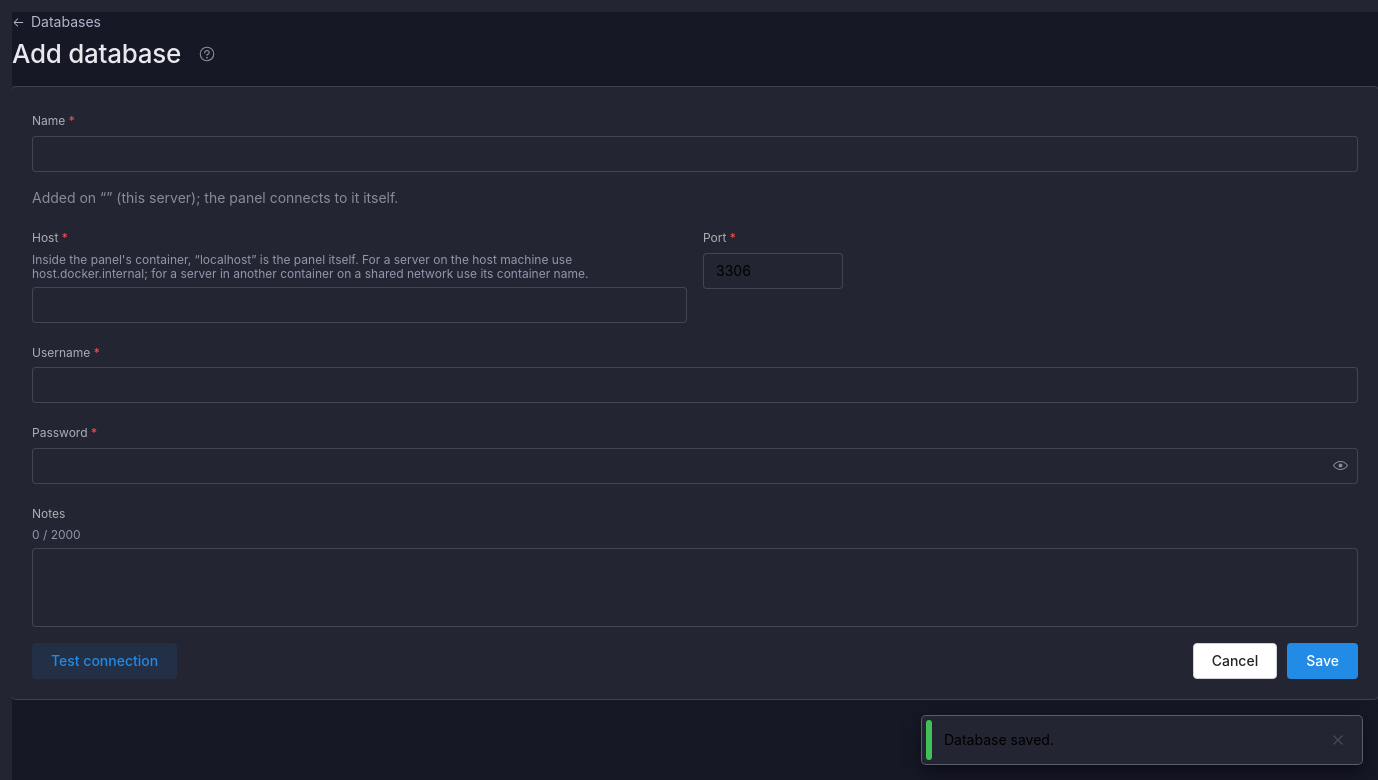
it: InstanceFormPage › shows a translated error for an invalid port
This screenshot has width=1378, height=780.
In the field labelled "Name *": [695, 154] box [32, 136, 1358, 172], type "prod"
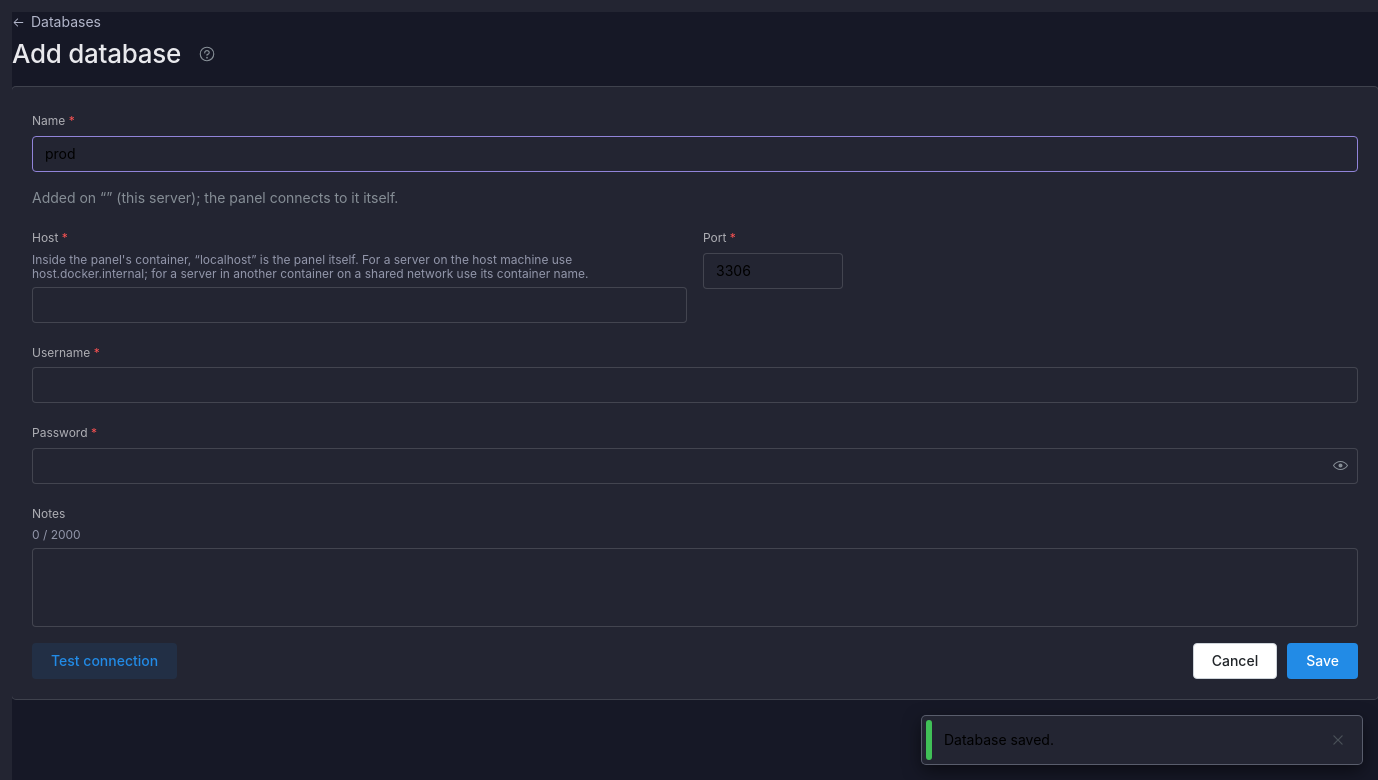
In the field labelled "Host *": [360, 305] box [32, 287, 687, 323], type "db.internal"
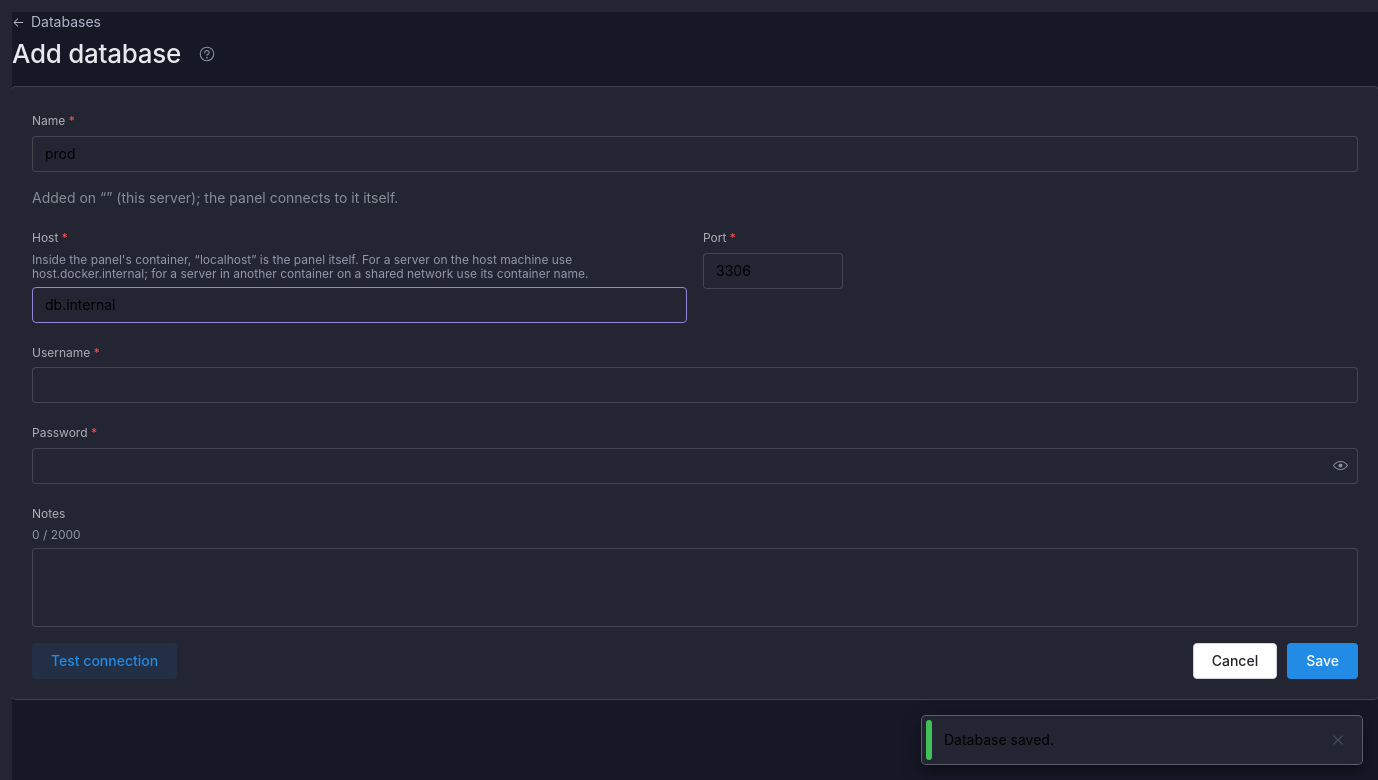
Replace the text in the field labelled "Port *" with "70000": [773, 271] box [703, 253, 843, 289]
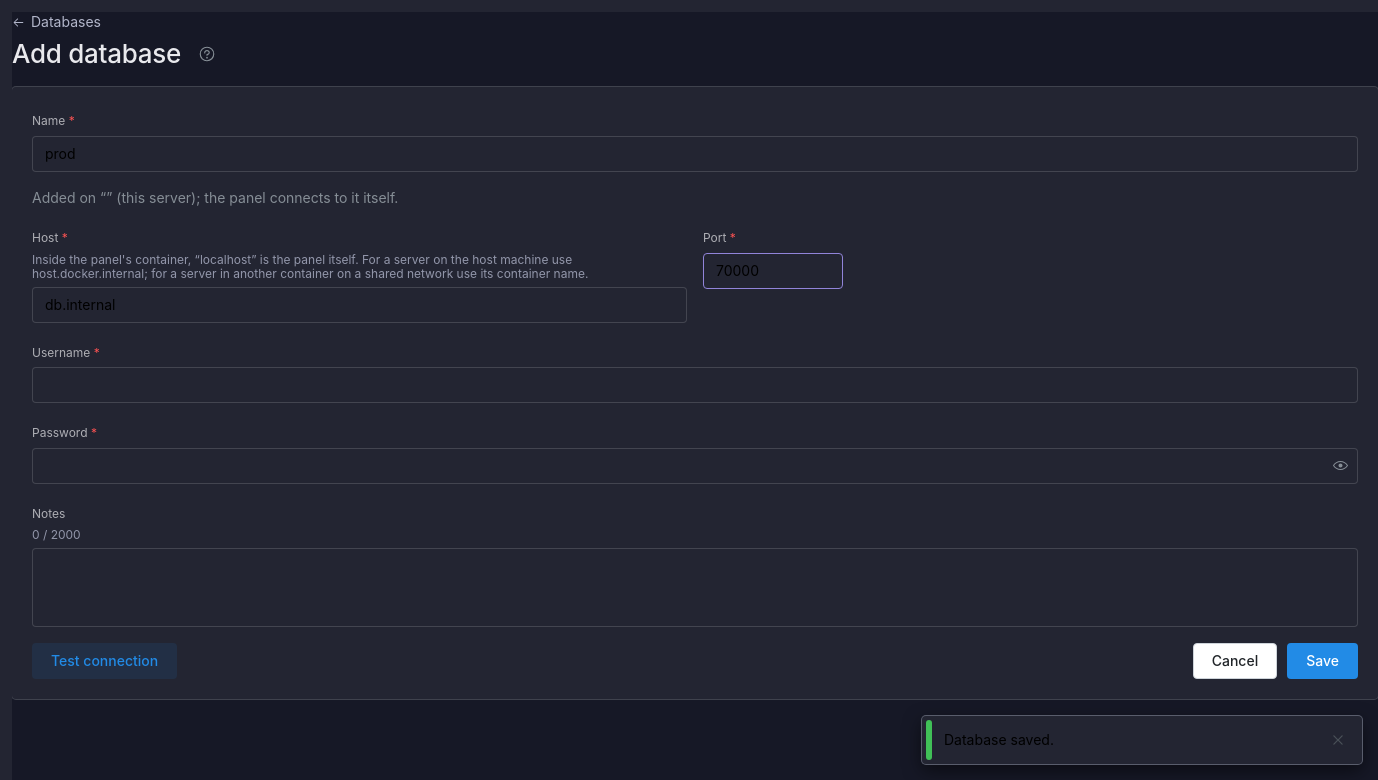
In the field labelled "Username *": [695, 385] box [32, 367, 1358, 403], type "backup"
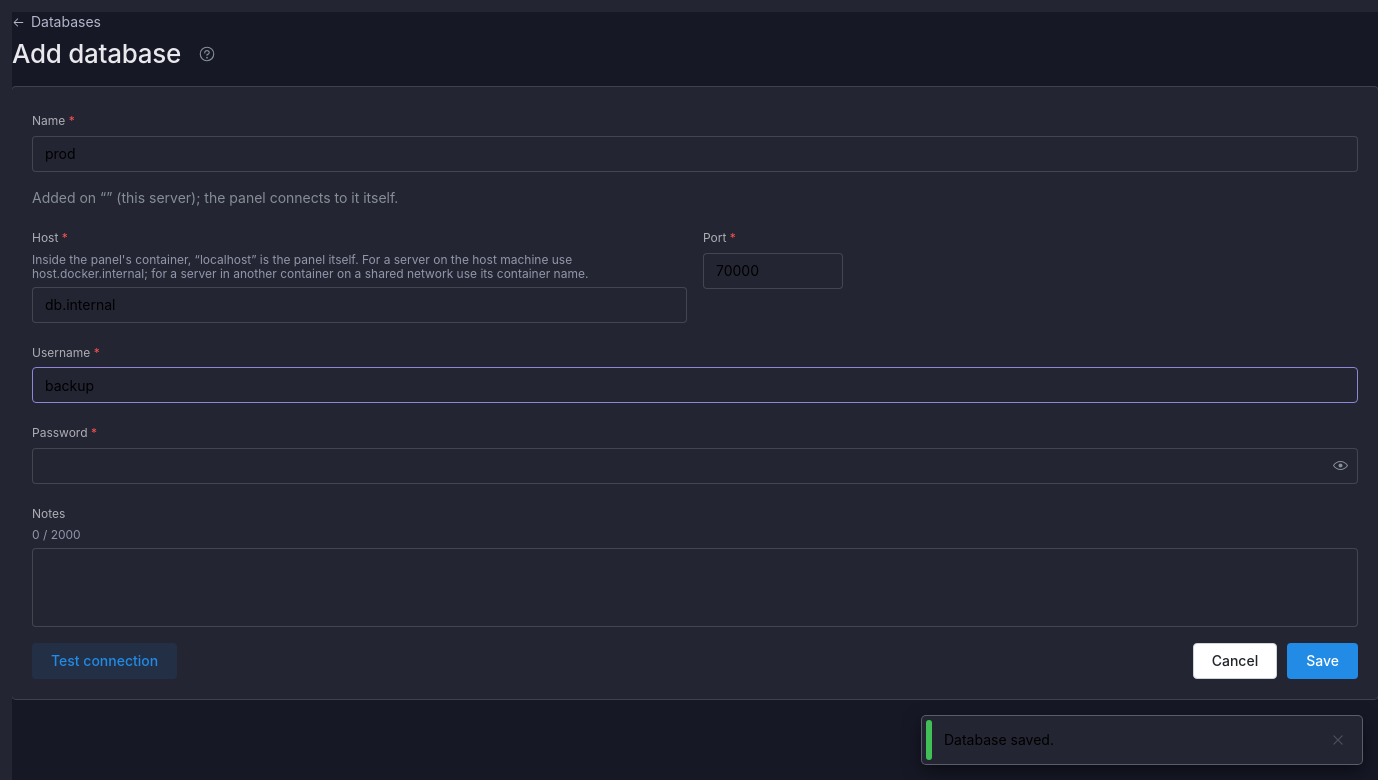
In the password field labelled "Password *": [695, 466] box [33, 449, 1357, 483], type "secret"
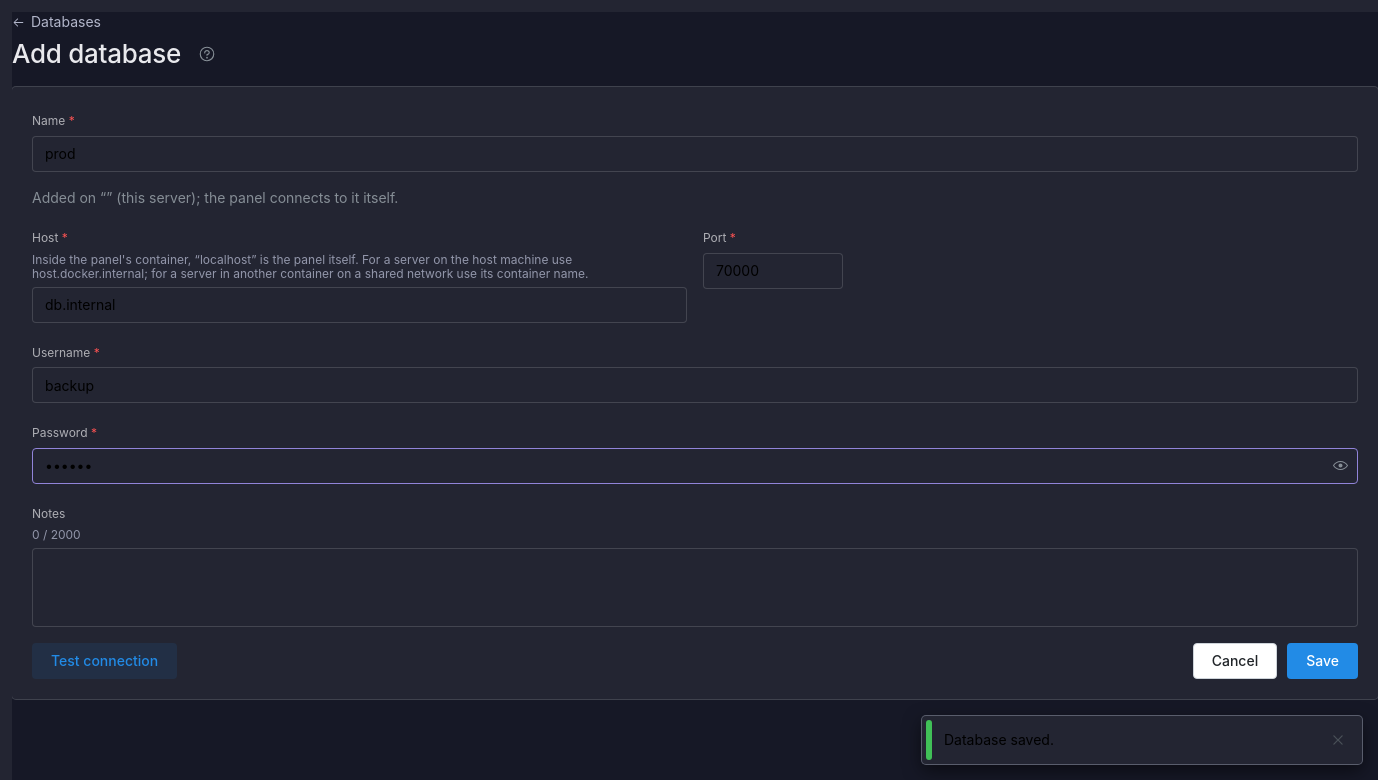
Click the button "Save": [1323, 661] box [1287, 643, 1358, 679]
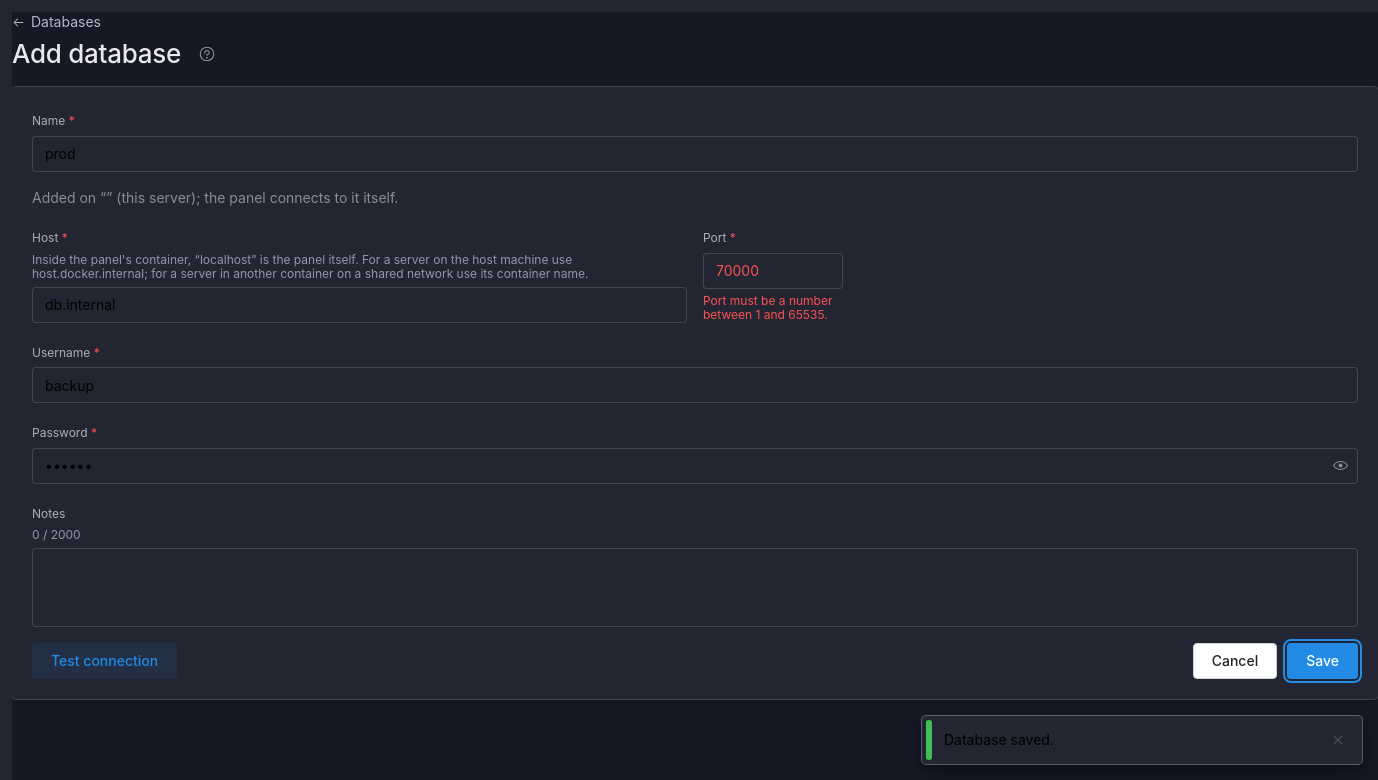
Check: the text "Port must be a number between 1 and 65535." is shown, box [703, 294, 843, 323]
